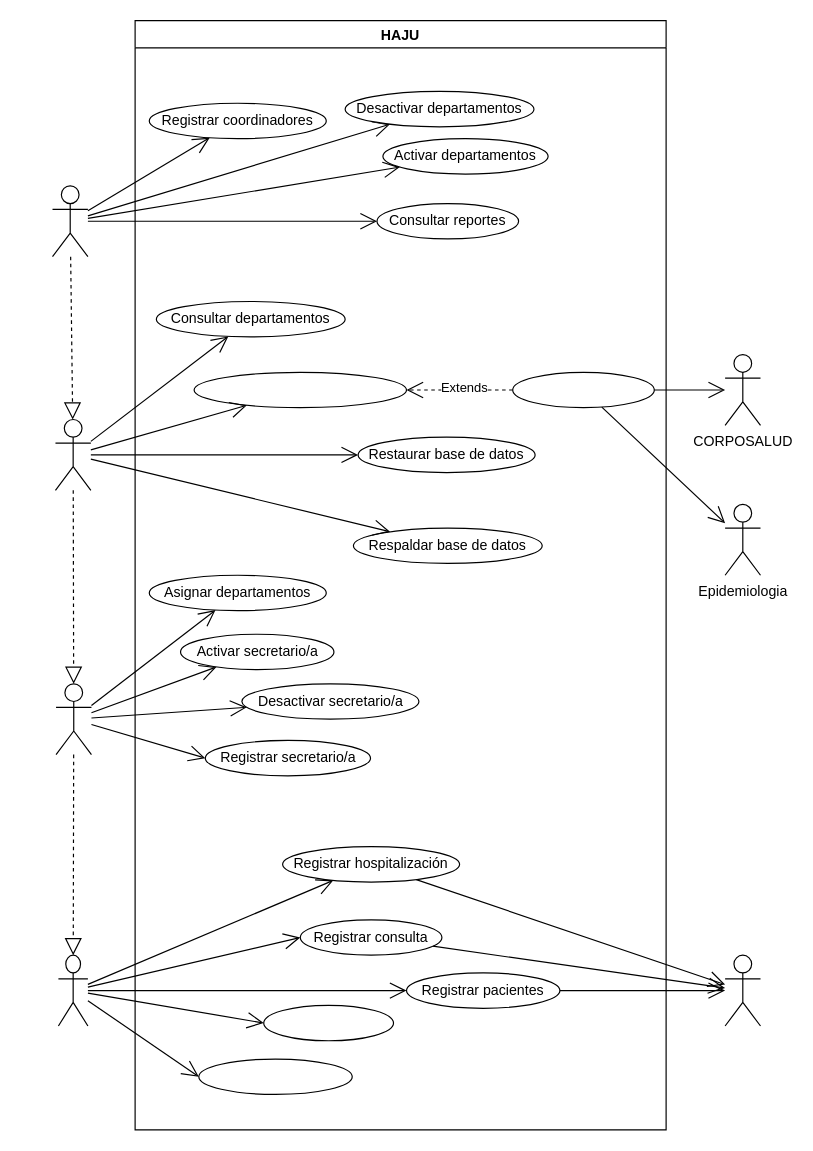
This 813x1151 diagram has some shape labels left out. Here are the shapes that lost their labels. From the top down, the centre of each, then its label:
[69,221]: Director/a
[300,389]: Generar reportes mensuales
[583,389]: Exportar reportes
[72,454]: Coodinardor/a de Estadística
[73,719]: Coordinador/a de departamento
[72,990]: Secretario/a
[742,990]: Paciente
[328,1022]: Actualizar perfil
[275,1076]: Consultar pacientes
